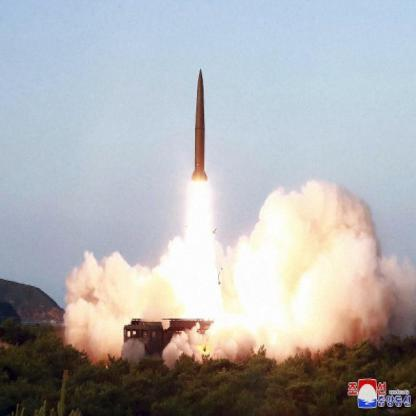MIL_TBM: (188, 68, 211, 185)
